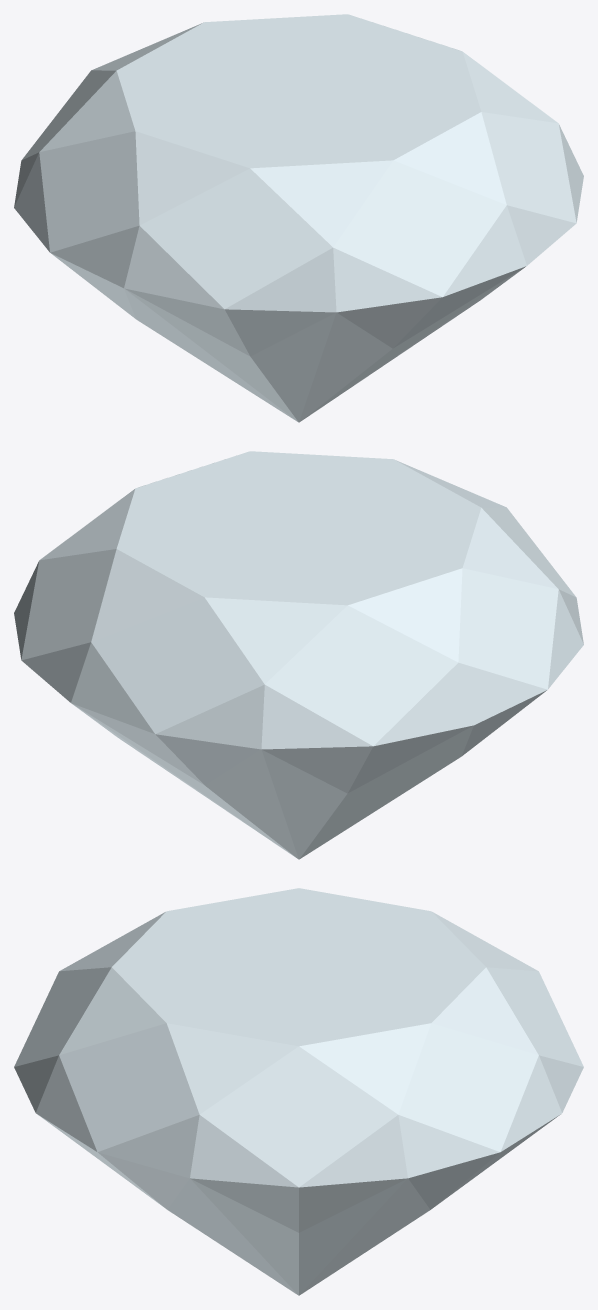
File: gem2.fbx
The picture shows the model from 3 angles, top to bottom: view 1: azimuth 30°, elevation 25°; view 2: azimuth 150°, elevation 25°; view 3: azimuth 270°, elevation 25°; orthographic projection.
Parts seen in each view (by area): view 1: Cylinder001; view 2: Cylinder001; view 3: Cylinder001.
Part boxes in pixels (box(x1,y1,x2,y2)): Cylinder001: box(14, 14, 583, 422); Cylinder001: box(14, 451, 583, 859); Cylinder001: box(14, 888, 583, 1295).
Bounding box in the file's own units: 200 × 200 × 127.
1 material, 1 textured.
